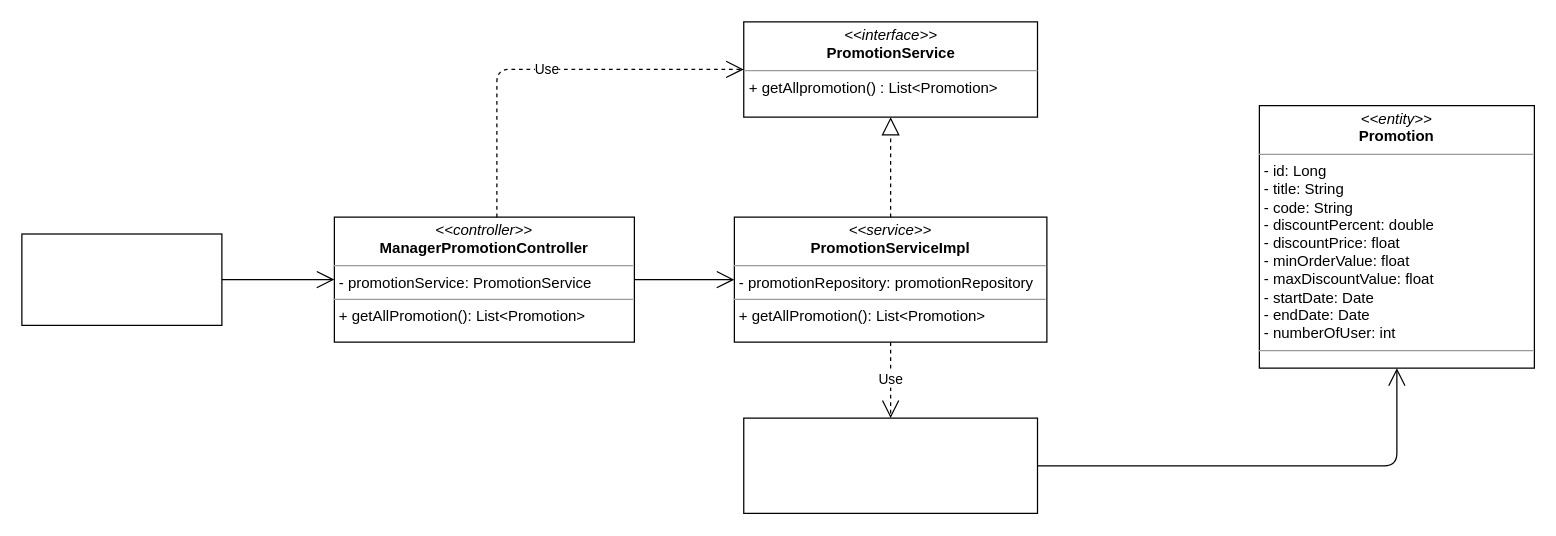
The diagram is 1556 pixels wide and 536 high, and some of its shapes have lost their labels. The centre of each missing label's shape, as x and y in pixels:
<<boundary>> ManagerPromotionView + getAllPromotion() : void: (x=121, y=279)
<<interface>> PromotionRepository + findAll() : List<Promotion>: (x=890, y=465)
